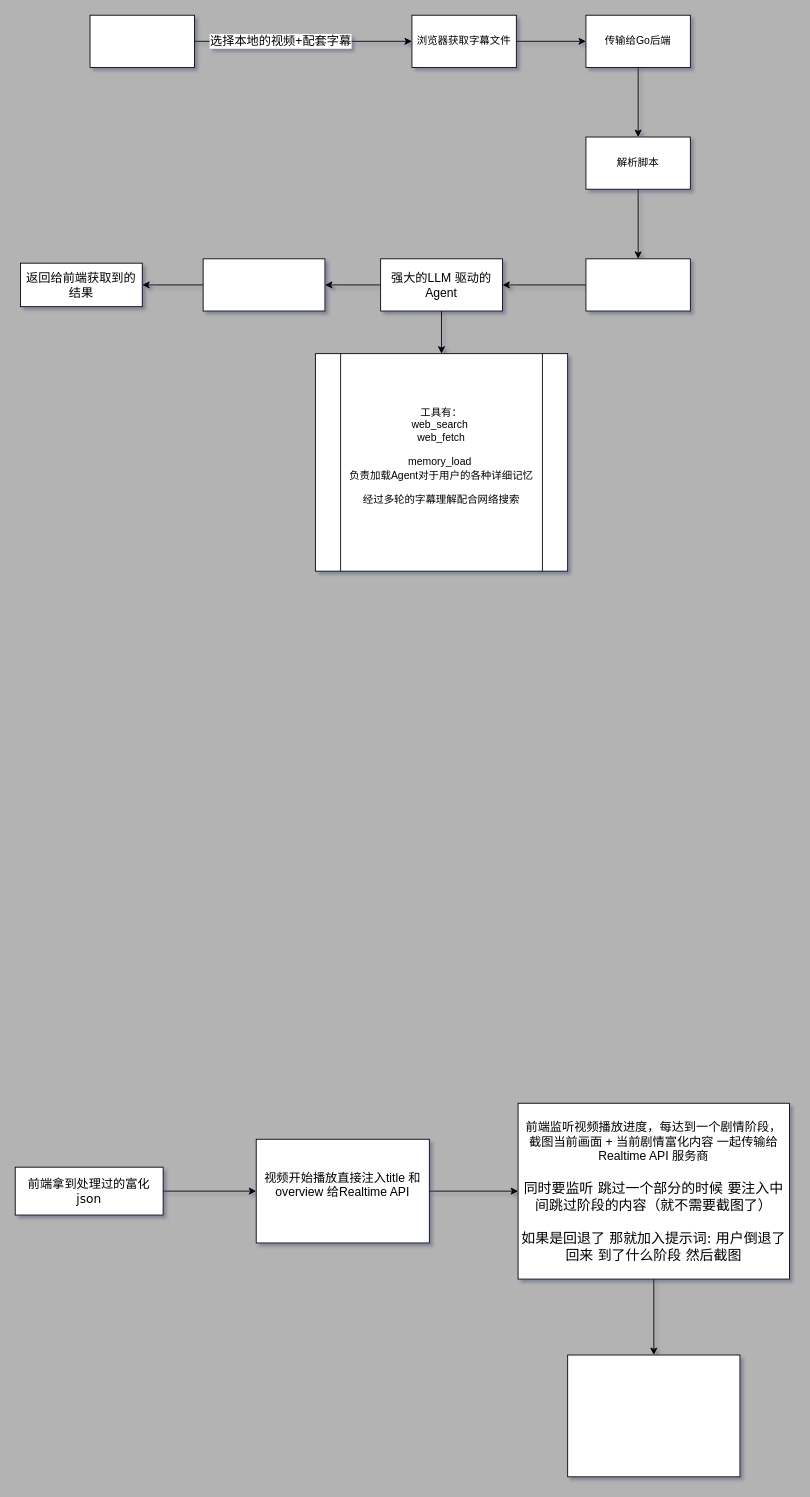
This 810x1497 diagram has some shape labels left out. Each missing label, with the centre of its shape:
"Web客户端" goes at [141,40].
"最后由一个LLM 负责结构化输出 为json" goes at [263,284].
"用户开口说话： 立刻截图前500ms（不错过精彩的） + 带上当前阶段的 描述 发给Realtime API" goes at [653,1415].
"获得了字幕json集" goes at [637,284].
